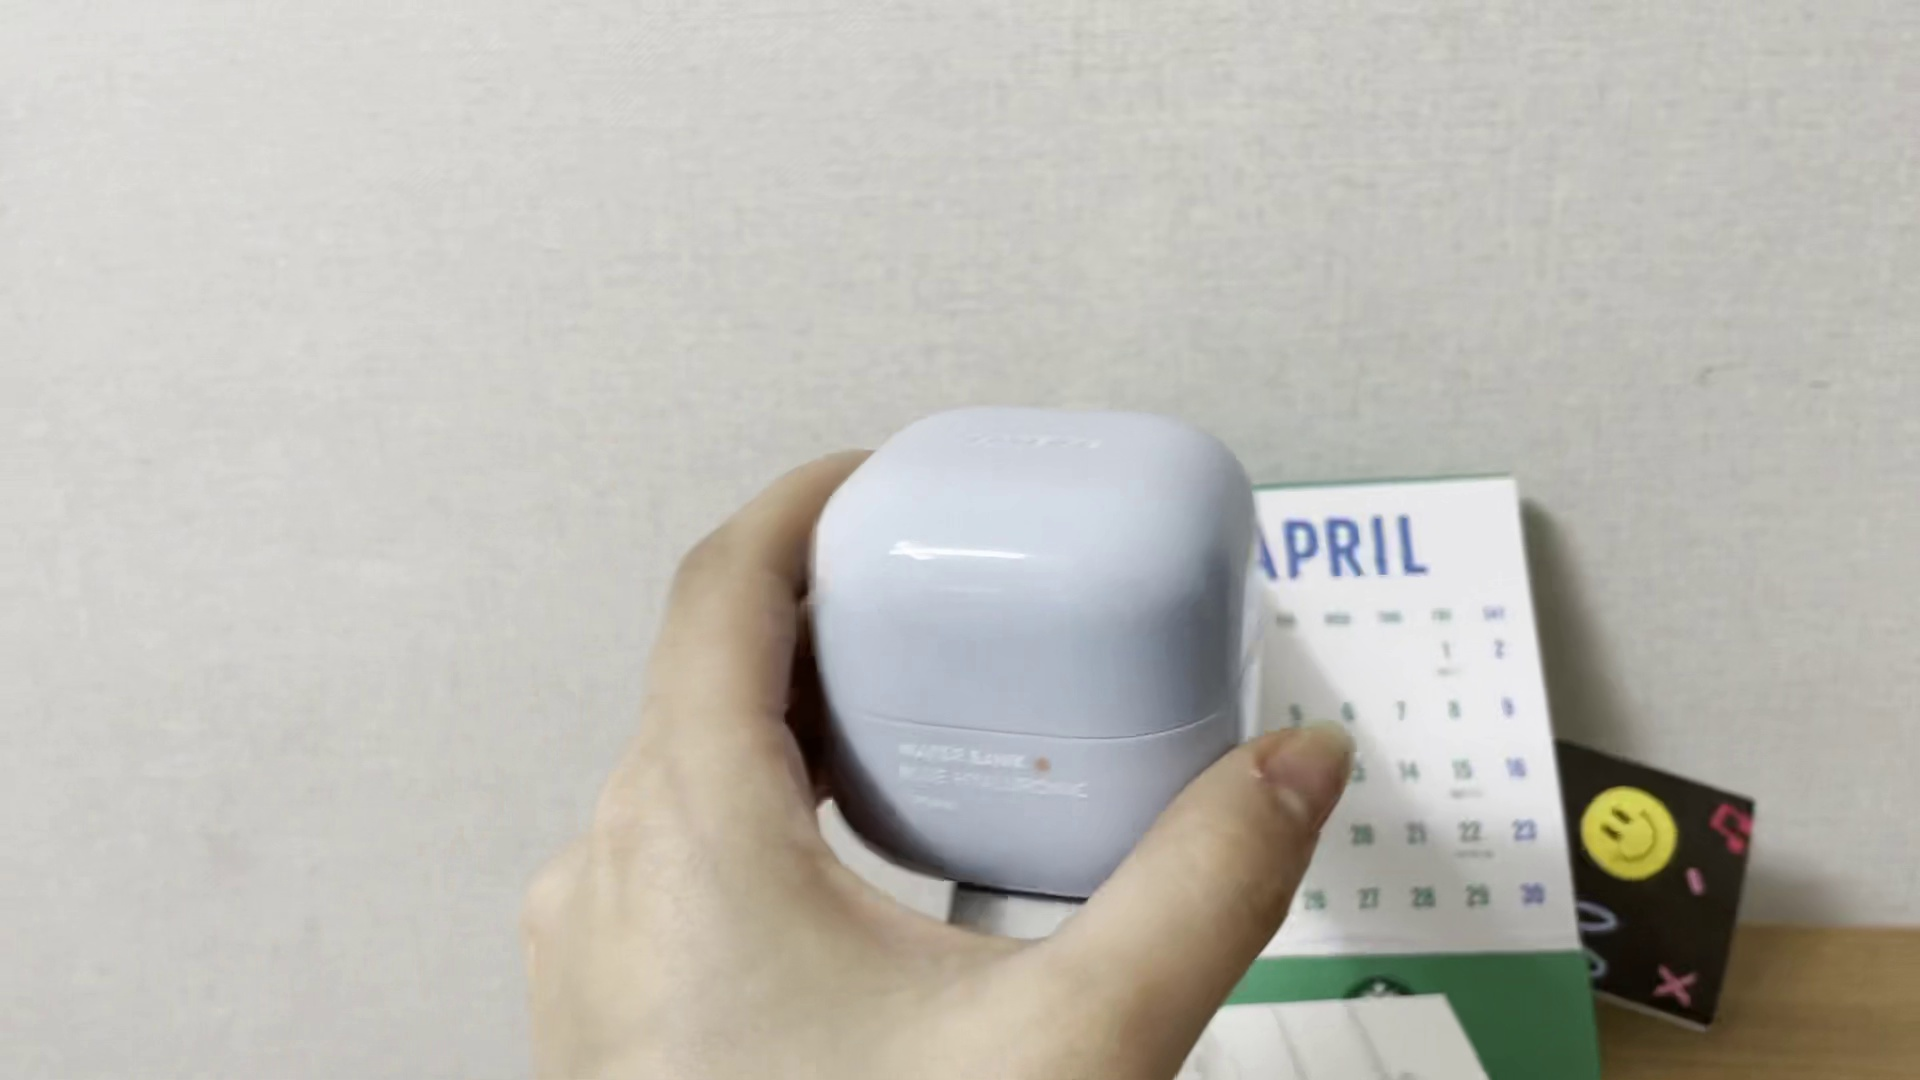cream: (822, 404, 1261, 895)
